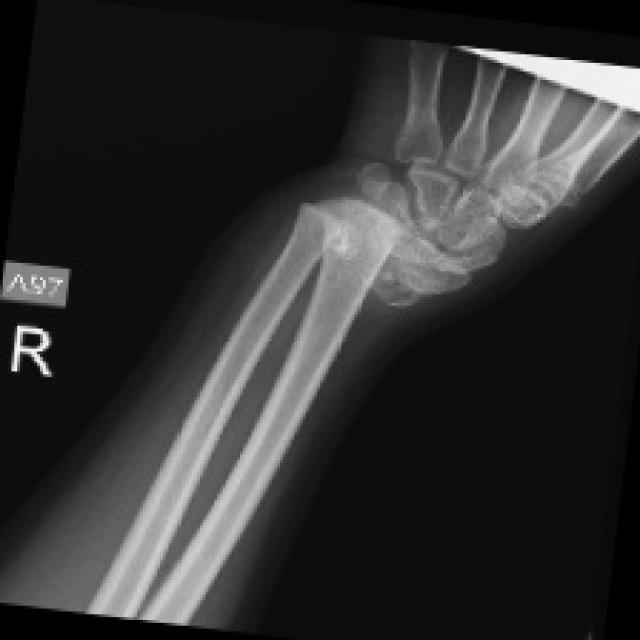fracture: (270, 147, 436, 270)
